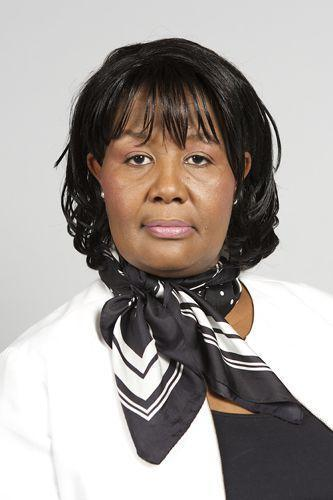no_mask: (96, 85, 246, 276)
